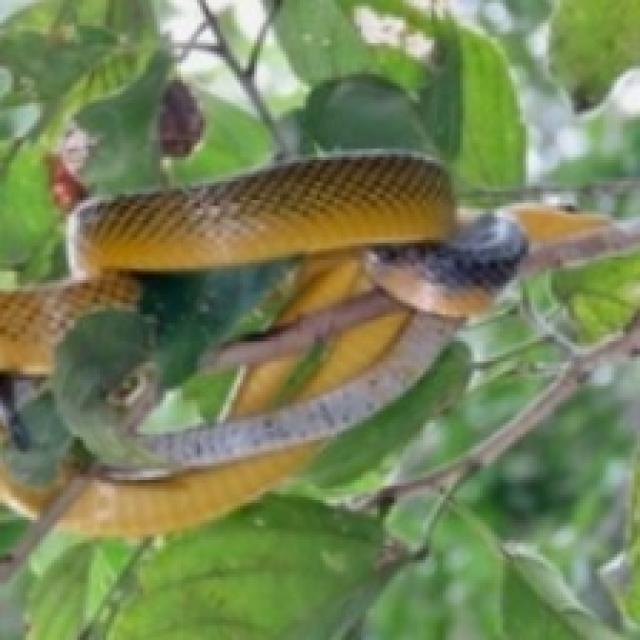red-tailed green ratsnake: (0, 154, 637, 537)
